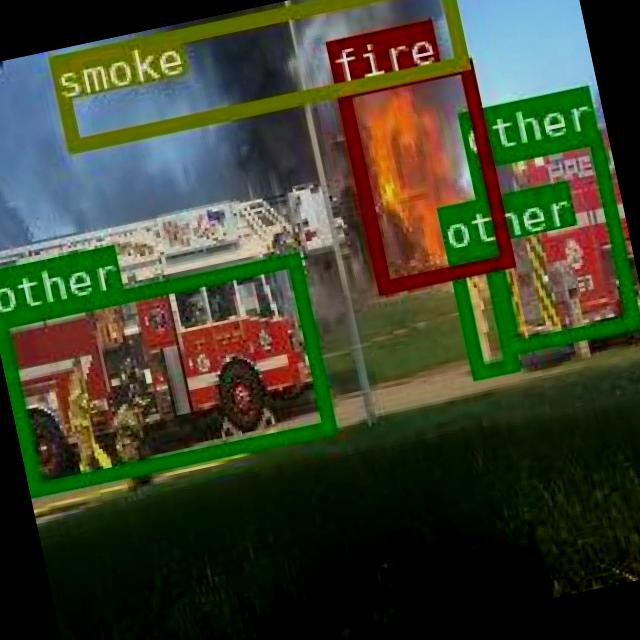fire: (334, 58, 512, 292)
smoke: (45, 0, 464, 151)
